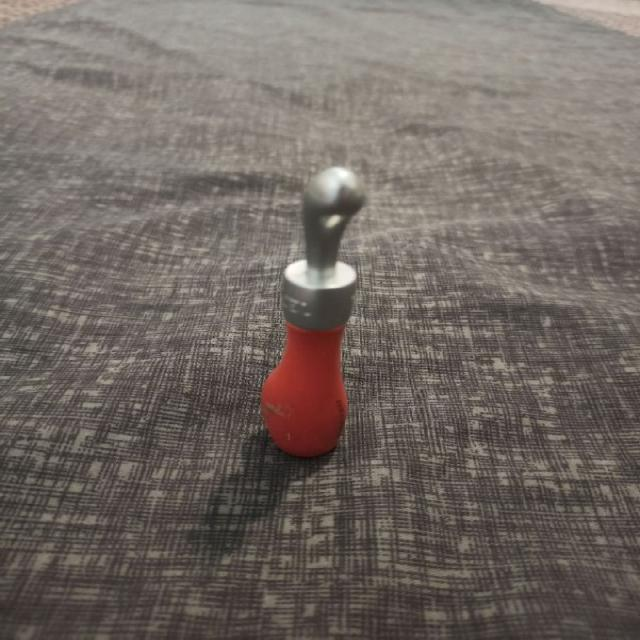lipstick: (259, 165, 366, 458)
